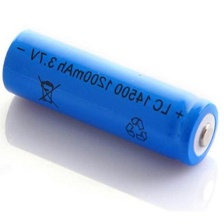battery: (0, 24, 221, 168), (1, 90, 218, 219)
